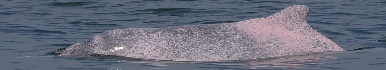fin: (47, 1, 363, 69)
